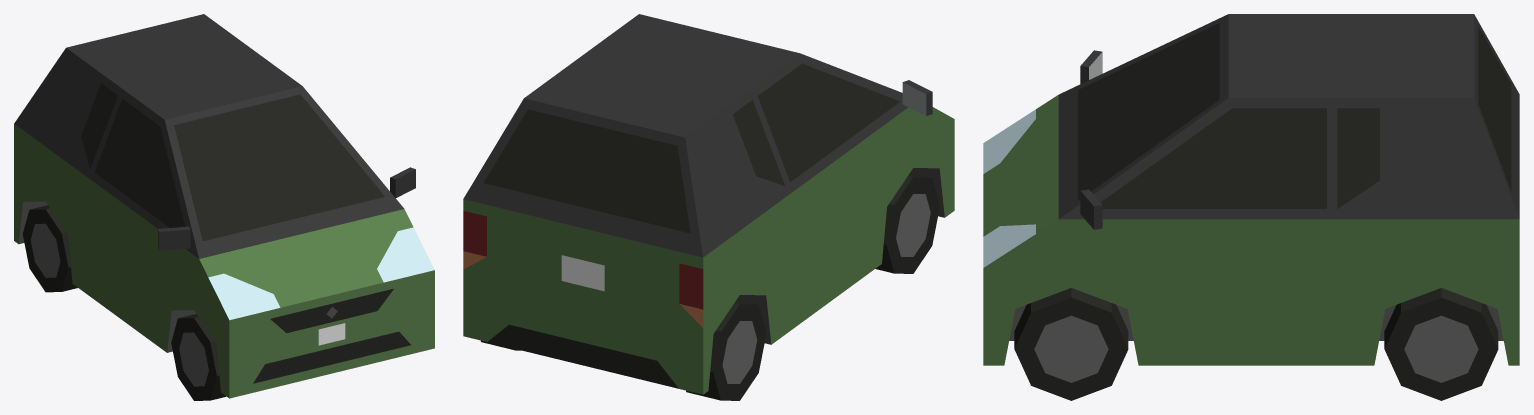
File: Veh_Microcar_Green.obj
3 renders of one model, left to right at view 1: azimuth 30°, elevation 25°; view 2: azimuth 150°, elevation 25°; view 3: azimuth 270°, elevation 25°, orthographic. The views are drawn at different scales.
Size of the model in its own units: 0.9194 by 0.7766 by 1.34.
